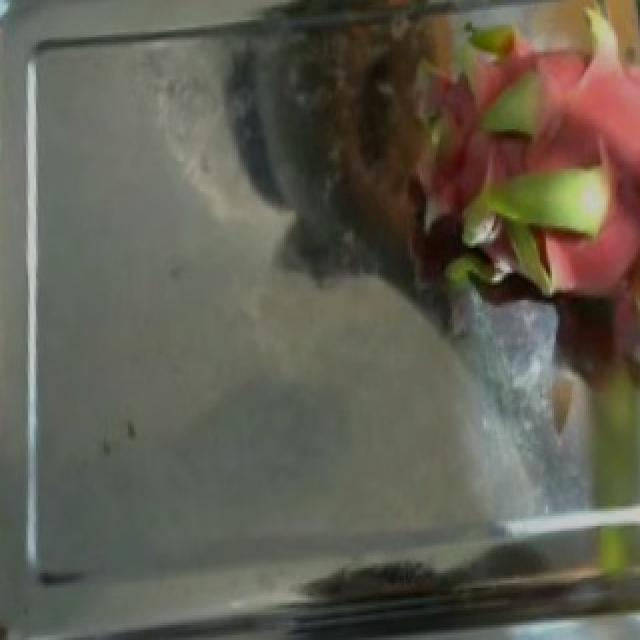fruit: (352, 0, 640, 380)
